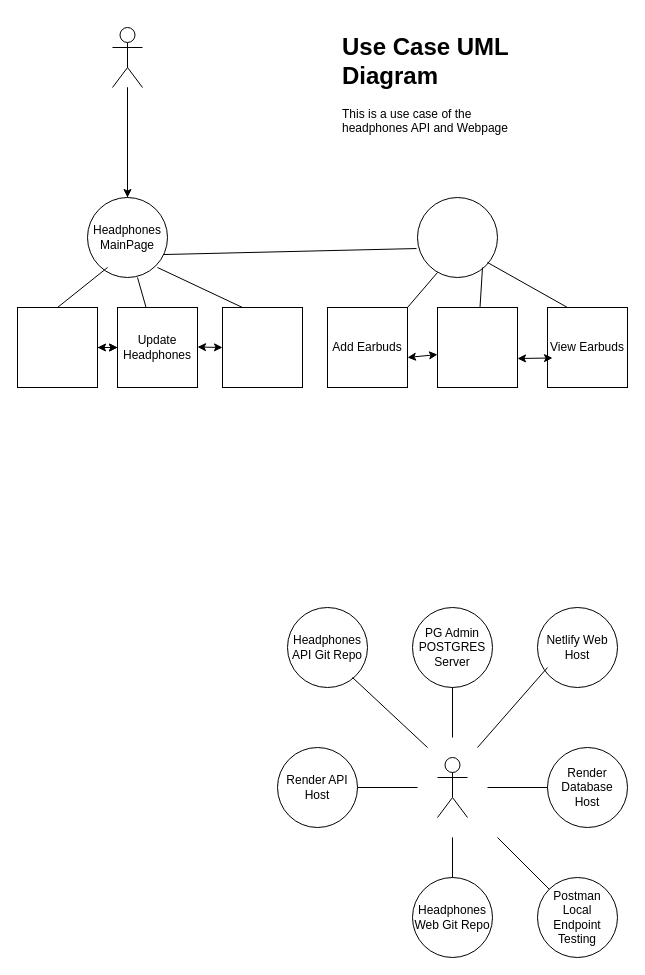
Image size: 645x975. Some labels were removed from this diagram. Here are the shapes that lost their labels. From the top down, the centre of each, then its label:
At [127,57]: "General User".
At [457,237]: "Earbuds MainPage".
At [57,347]: "Add Headphones".
At [262,347]: "View Headphones".
At [477,347]: "Update Earbuds".
At [452,787]: "Level 4 User".
